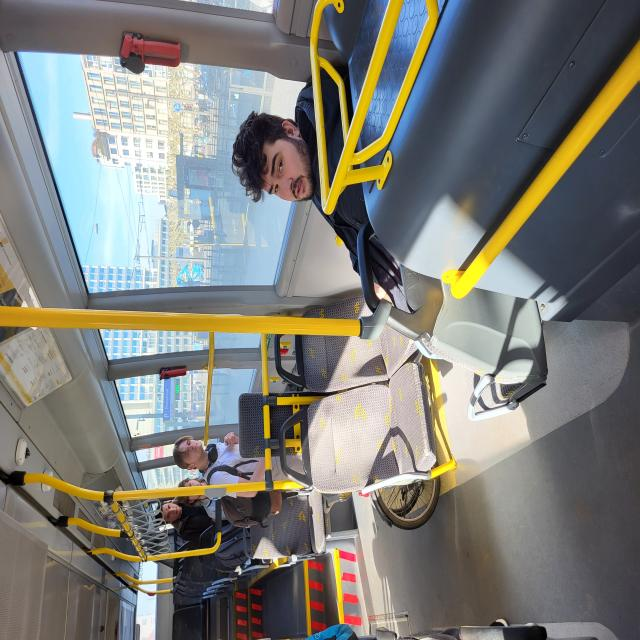asiento-libre: (109, 372, 209, 585), (185, 364, 260, 564), (58, 324, 114, 439), (164, 548, 228, 640), (38, 248, 66, 318), (0, 230, 28, 278)
